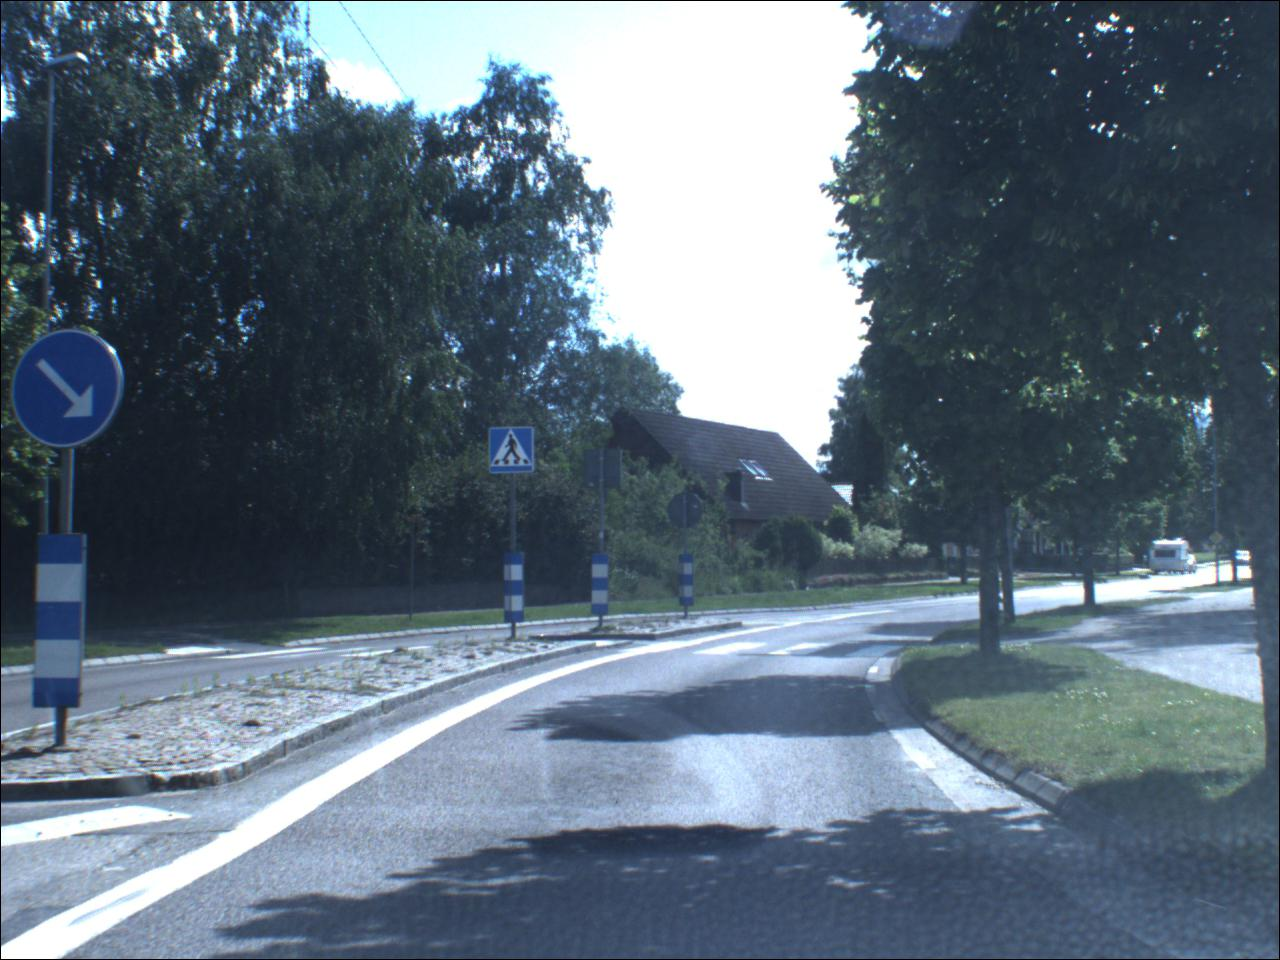PASS_RIGHT_SIDE: (13, 331, 127, 455)
PEDESTRIAN_CROSSING: (492, 430, 536, 475)
